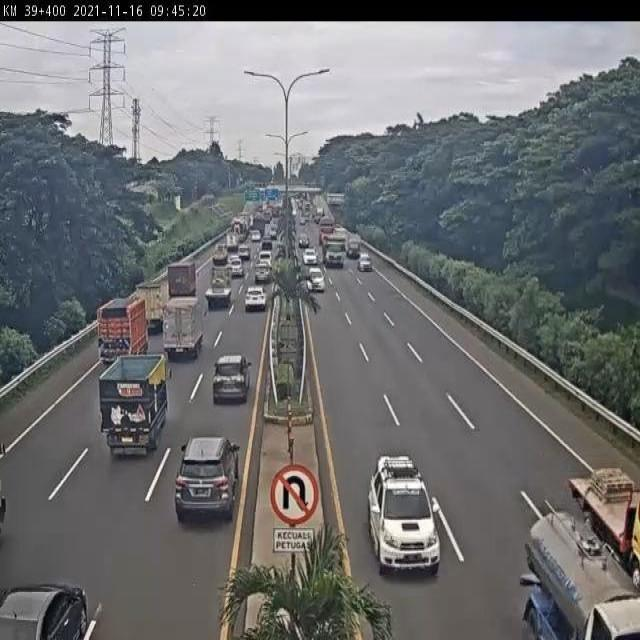Car: (364, 454, 443, 576), (172, 435, 243, 522), (0, 581, 91, 639), (212, 353, 252, 404), (244, 285, 267, 312), (307, 267, 326, 292), (253, 260, 272, 282), (228, 256, 244, 278), (302, 248, 318, 266), (357, 254, 372, 272), (260, 234, 273, 252), (238, 242, 251, 260), (268, 225, 278, 241), (250, 229, 261, 243), (298, 234, 308, 247), (299, 216, 306, 224)
Truck: (521, 504, 640, 640), (564, 464, 640, 574), (98, 351, 172, 458), (96, 292, 152, 366), (160, 294, 206, 362), (134, 277, 172, 334), (166, 258, 200, 299), (205, 264, 234, 305), (322, 234, 347, 268), (318, 215, 335, 248), (230, 214, 250, 242), (346, 233, 362, 260), (251, 212, 267, 238), (211, 242, 228, 264), (226, 231, 240, 256), (334, 224, 350, 236), (263, 212, 271, 224)
Van: (258, 249, 273, 270)
